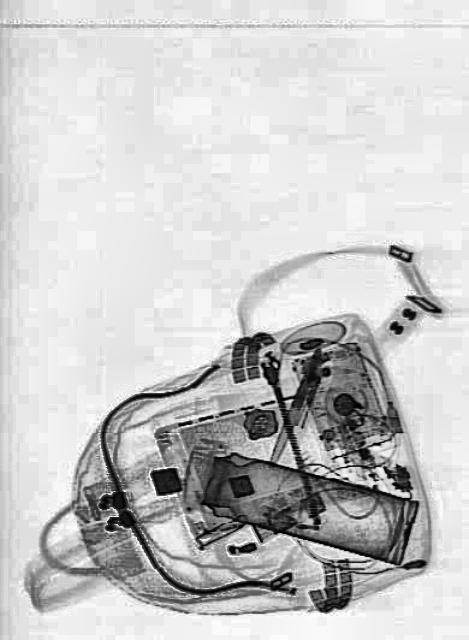Knife: (262, 345, 324, 471)
